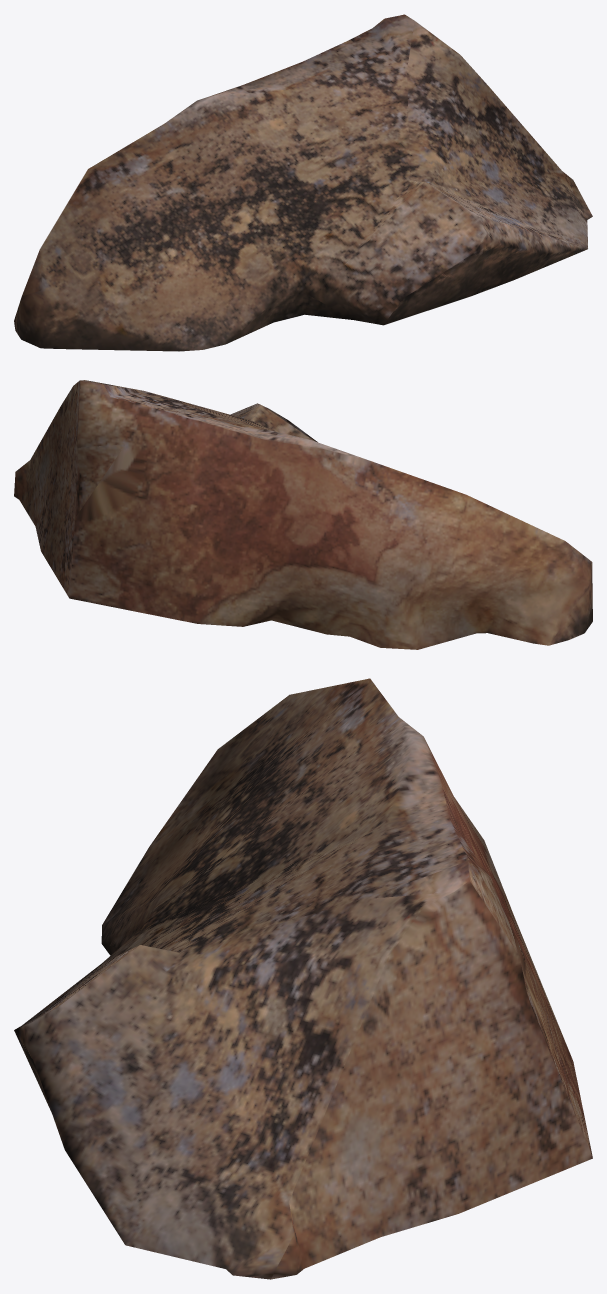
File: Mesh_Boulder_01_AJ.fbx
3 renders of one model, top to bottom at view 1: azimuth 30°, elevation 25°; view 2: azimuth 150°, elevation 25°; view 3: azimuth 270°, elevation 25°, orthographic. The views are drawn at different scales.
Visible parts, largest first — view 1: Mesh_Boulder_01_AJ; view 2: Mesh_Boulder_01_AJ; view 3: Mesh_Boulder_01_AJ.
Part boxes in pixels (x1=…): Mesh_Boulder_01_AJ: x1=14, y1=14, x2=592, y2=351; Mesh_Boulder_01_AJ: x1=14, y1=380, x2=592, y2=649; Mesh_Boulder_01_AJ: x1=14, y1=678, x2=592, y2=1279.
Size of the model in its own units: 5439 by 1667 by 2902.
